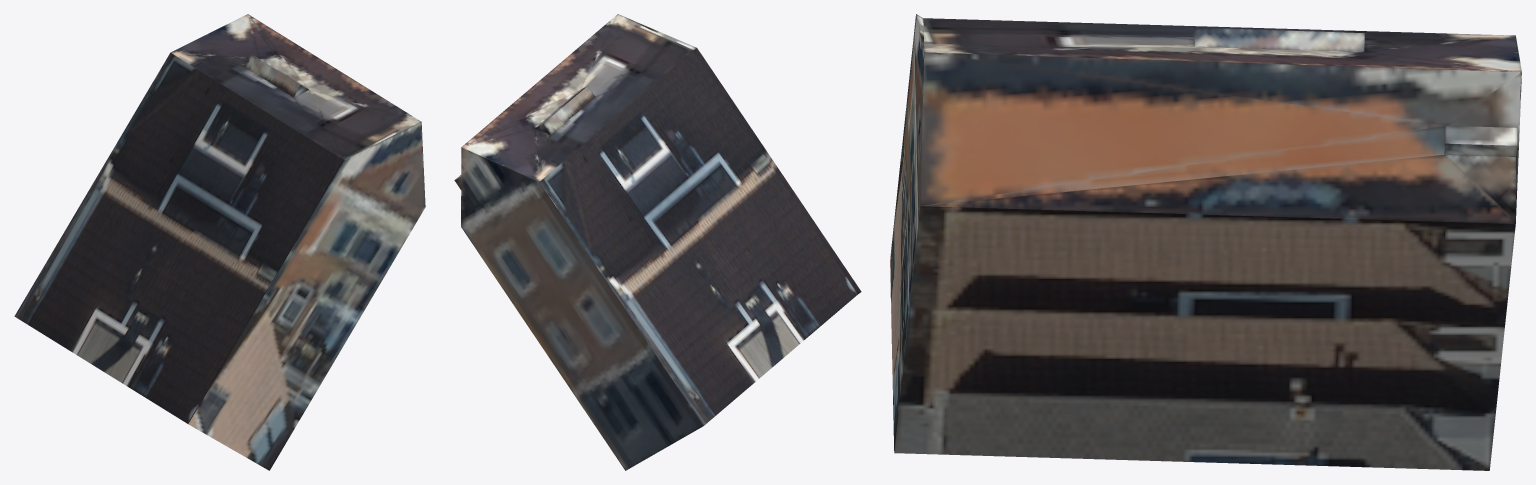
3 views of the same model, side by side, from view 1: azimuth 30°, elevation 25°; view 2: azimuth 150°, elevation 25°; view 3: azimuth 270°, elevation 25° (orthographic). The views are drawn at different scales.
Visible parts, largest first — view 1: BAG_0599100000688731 (×4); view 2: BAG_0599100000688731 (×5); view 3: BAG_0599100000688731 (×7).
Boxes of the visible parts, x1,y1,x2,y2 form: BAG_0599100000688731 (×4): [14, 14, 425, 470]; BAG_0599100000688731 (×5): [461, 14, 861, 470]; BAG_0599100000688731 (×7): [890, 14, 1521, 470].
Size of the model in its own units: 10.58 by 12.73 by 12.94.
Materials: 7 (7 with a texture image).
